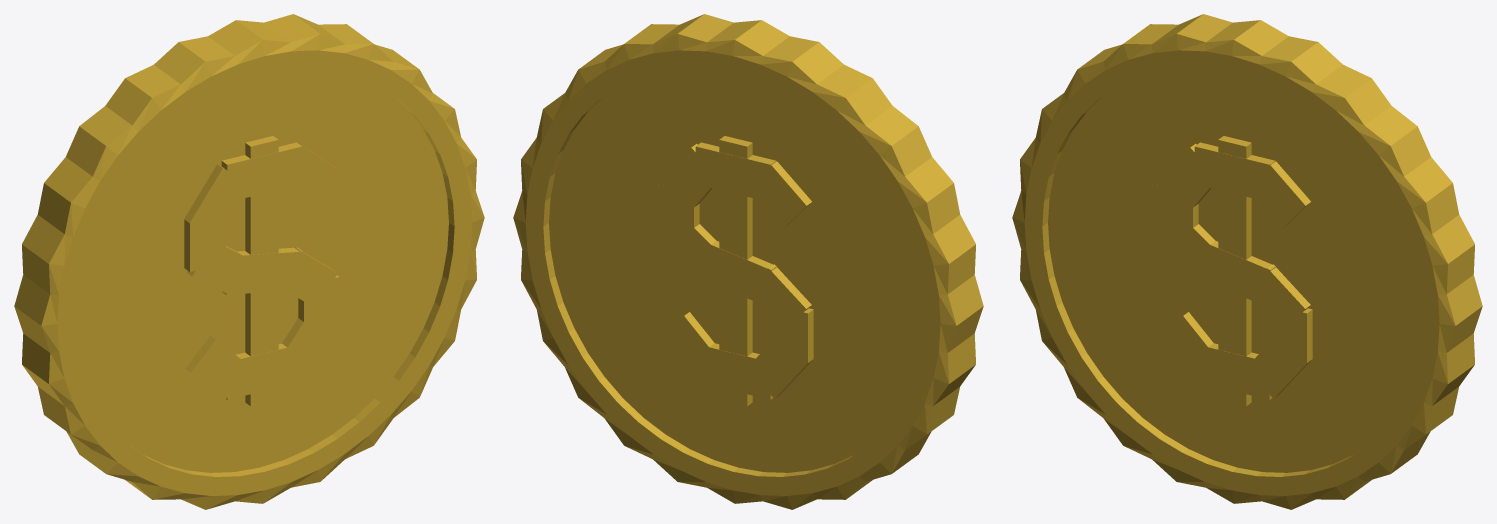
Rendered from moeda_grande.glb.
3 views of the same model, side by side, from view 1: azimuth 30°, elevation 25°; view 2: azimuth 150°, elevation 25°; view 3: azimuth 330°, elevation 25° (orthographic).
Parts seen in each view (by area): view 1: moeda_corpo, simbolo_cifrao_frente; view 2: moeda_corpo, simbolo_cifrao_tras; view 3: moeda_corpo, simbolo_cifrao_frente.
Part boxes in pixels (x1,y1,x2,y2): moeda_corpo: (14, 14, 484, 509); simbolo_cifrao_frente: (184, 136, 339, 406); moeda_corpo: (513, 14, 983, 509); simbolo_cifrao_tras: (658, 136, 813, 406); moeda_corpo: (1012, 14, 1482, 509); simbolo_cifrao_frente: (1157, 136, 1312, 406).
Size of the model in its own units: 1 by 1 by 0.12.
